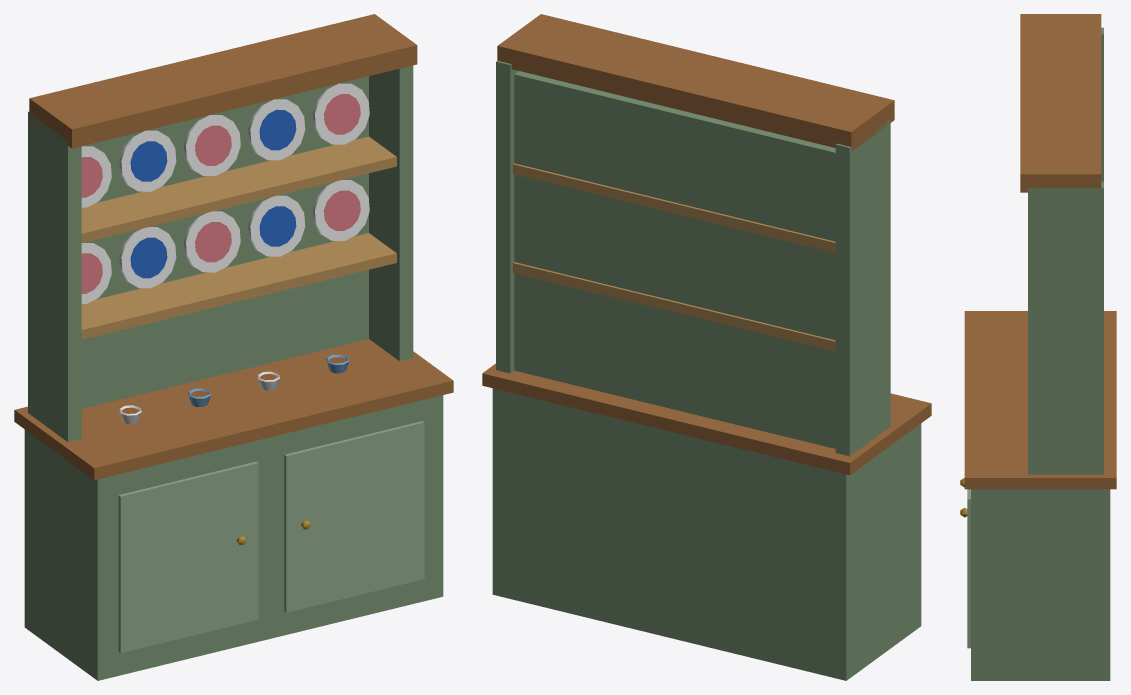
Rendered from kitchen_hutch.glb.
3 renders of one model, left to right at view 1: azimuth 30°, elevation 25°; view 2: azimuth 150°, elevation 25°; view 3: azimuth 270°, elevation 25°, orthographic. The views are drawn at different scales.
Visible parts, largest first — view 1: furniture-kitchen_hutch; view 2: furniture-kitchen_hutch; view 3: furniture-kitchen_hutch.
Part boxes in pixels (bbox=[...]): furniture-kitchen_hutch: bbox=[14, 14, 453, 680]; furniture-kitchen_hutch: bbox=[482, 14, 931, 680]; furniture-kitchen_hutch: bbox=[960, 14, 1116, 680].
Bounding box in the file's own units: 1.56 × 2.21 × 0.6171.
